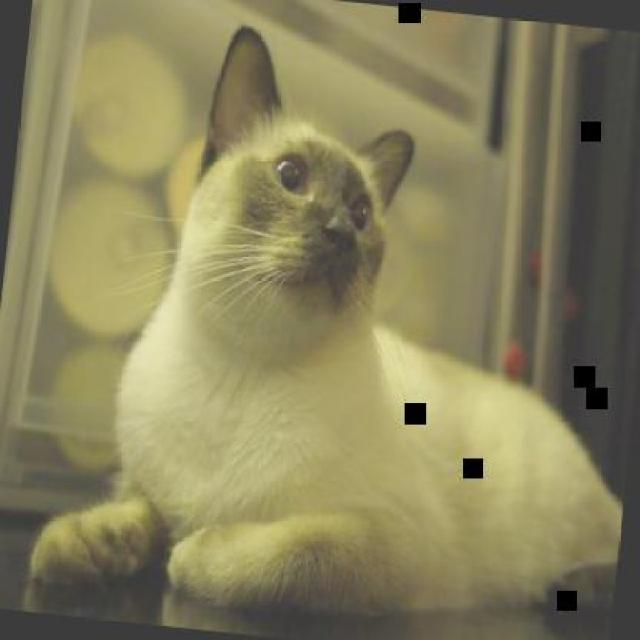cat: (31, 7, 638, 638)
